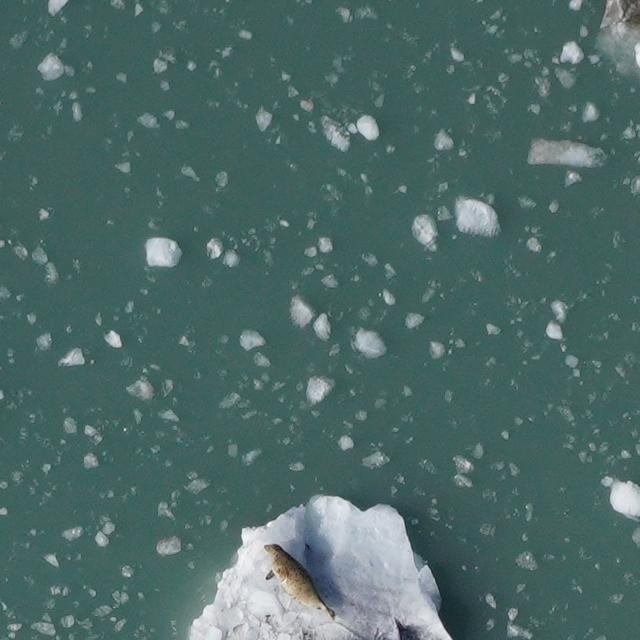seal: (257, 539, 341, 624)
